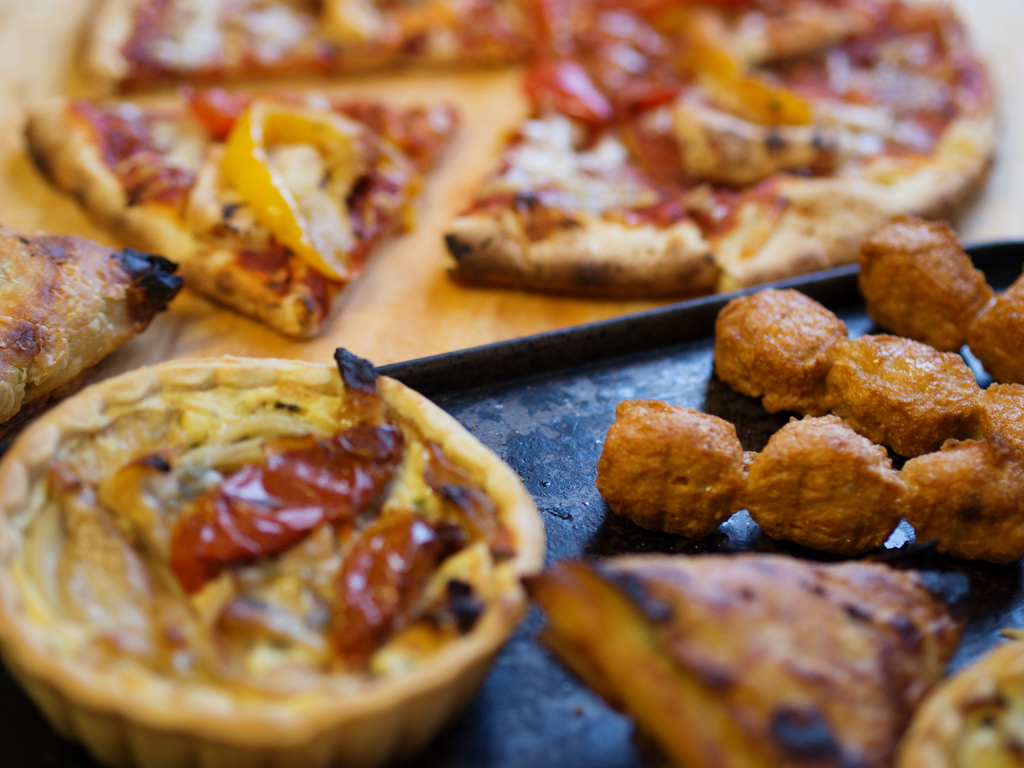Pizza: (431, 0, 1000, 290), (19, 91, 455, 334), (443, 53, 723, 300), (80, 0, 459, 90)
